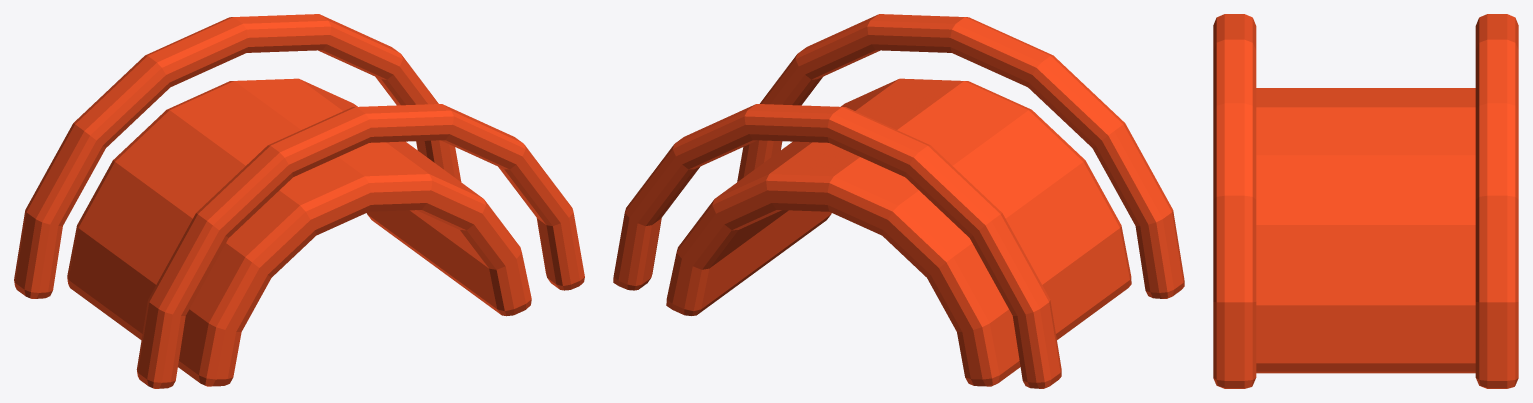
Rendered from bridge.fbx.
The picture shows the model from 3 angles, left to right: view 1: azimuth 30°, elevation 25°; view 2: azimuth 150°, elevation 25°; view 3: azimuth 270°, elevation 25°; orthographic projection. The views are drawn at different scales.
Parts seen in each view (by area): view 1: brifge; view 2: brifge; view 3: brifge.
Part boxes in pixels (left/top/right/bottom): brifge: left=14, top=14, right=584, bottom=388; brifge: left=613, top=14, right=1184, bottom=388; brifge: left=1213, top=14, right=1518, bottom=388.
Bounding box in the file's own units: 176 × 91.69 × 99.95.
